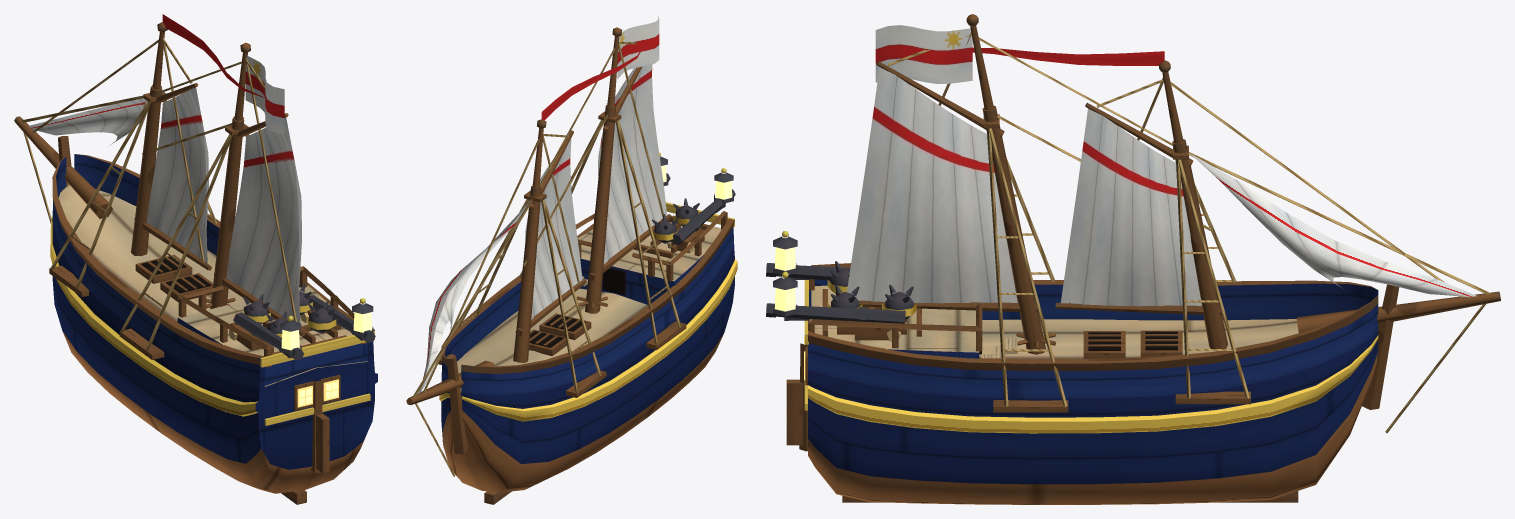
Rendered from navy_runner.glb.
The picture shows the model from 3 angles, left to right: view 1: azimuth 30°, elevation 25°; view 2: azimuth 150°, elevation 25°; view 3: azimuth 270°, elevation 25°; orthographic projection. The views are drawn at different scales.
Parts seen in each view (by area): view 1: Hull, Rigging, Sail1_0, Sail0_0, Flag, Jib, Guns0; view 2: Hull, Rigging, Sail1_0, Sail0_0, Flag, Jib, Guns0; view 3: Hull, Sail1_0, Rigging, Sail0_0, Flag, Jib, Guns0.
Part boxes in pixels (<box>): Hull: <box>49,136,377,504</box>; Rigging: <box>14,22,305,351</box>; Sail1_0: <box>226,117,301,323</box>; Sail0_0: <box>146,87,208,263</box>; Flag: <box>162,14,284,134</box>; Jib: <box>29,98,146,145</box>; Guns0: <box>229,295,375,360</box>; Hull: <box>438,152,737,504</box>; Rigging: <box>406,27,681,476</box>; Sail1_0: <box>598,64,667,263</box>; Sail0_0: <box>525,138,582,319</box>; Flag: <box>541,15,659,120</box>; Jib: <box>418,200,530,393</box>; Guns0: <box>663,173,735,253</box>; Hull: <box>772,231,1399,504</box>; Sail1_0: <box>847,67,1017,303</box>; Rigging: <box>859,14,1500,433</box>; Sail0_0: <box>1060,108,1201,306</box>; Flag: <box>875,25,1164,83</box>; Jib: <box>1190,153,1476,297</box>; Guns0: <box>766,263,905,341</box>.
Bounding box in the file's own units: 0.8442 × 1.99 × 2.73.
Materials: 8 (8 with a texture image).
